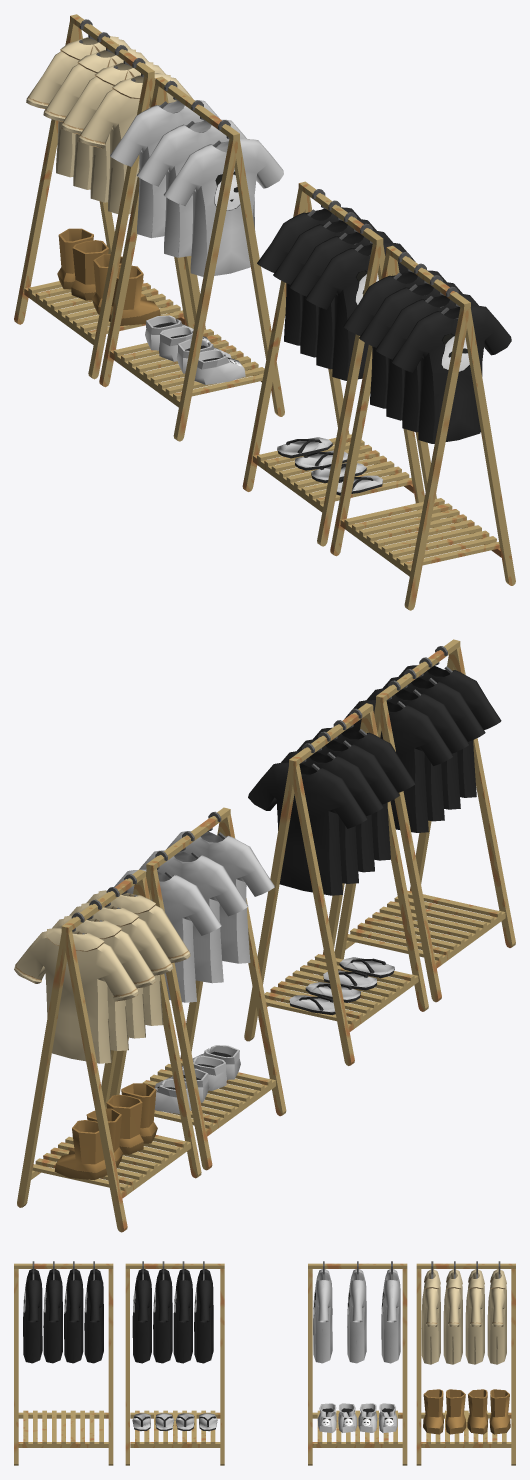
Rendered from Hangar.fbx.
3 renders of one model, top to bottom at view 1: azimuth 30°, elevation 25°; view 2: azimuth 150°, elevation 25°; view 3: azimuth 270°, elevation 25°, orthographic. The views are drawn at different scales.
Parts seen in each view (by area): view 1: Hangar Kayu.001, NajuHitam, Baju Zookeeper.005, Baju Zookeeper.065; view 2: Baju Zookeeper.005, Baju Zookeeper.065, NajuHitam, Hangar Kayu.001; view 3: Baju Zookeeper.005, Baju Zookeeper.065, NajuHitam, Hangar Kayu.001.
Boxes of the visible parts, left/top/right/bottom form: Hangar Kayu.001: left=99, top=76, right=284, bottom=441; NajuHitam: left=330, top=245, right=515, bottom=610; Baju Zookeeper.005: left=14, top=14, right=194, bottom=379; Baju Zookeeper.065: left=242, top=181, right=424, bottom=546; Baju Zookeeper.005: left=14, top=869, right=201, bottom=1232; Baju Zookeeper.065: left=244, top=703, right=428, bottom=1065; NajuHitam: left=334, top=639, right=515, bottom=1002; Hangar Kayu.001: left=109, top=807, right=286, bottom=1170; Baju Zookeeper.005: left=416, top=1261, right=515, bottom=1465; Baju Zookeeper.065: left=125, top=1261, right=224, bottom=1465; NajuHitam: left=14, top=1261, right=113, bottom=1465; Hangar Kayu.001: left=308, top=1261, right=407, bottom=1465.
Size of the model in its own units: 109 by 251 by 602.
